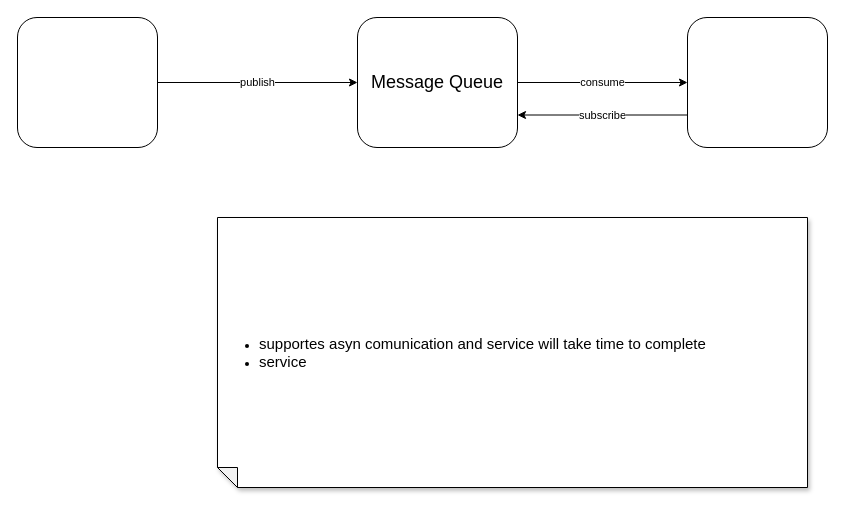
Some shapes in this 845 by 512 pixel diagram are drawn without their labels. The centre of each missing label's shape, as x and y in pixels:
"Consumer" goes at (757,82).
"Producer" goes at (87,82).
